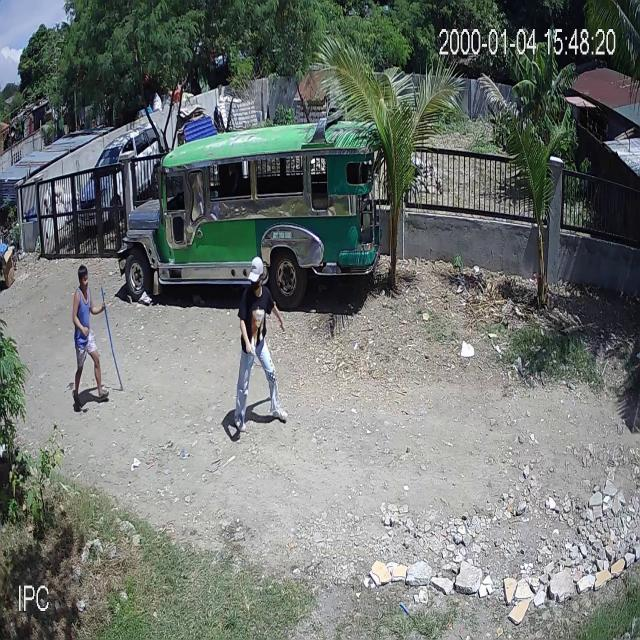running: (72, 266, 122, 408)
walking: (233, 257, 288, 431)
